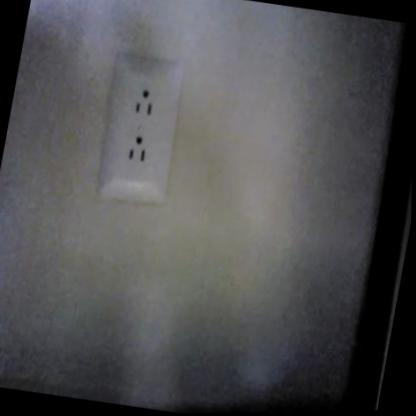OUTLET: (91, 50, 187, 209)
